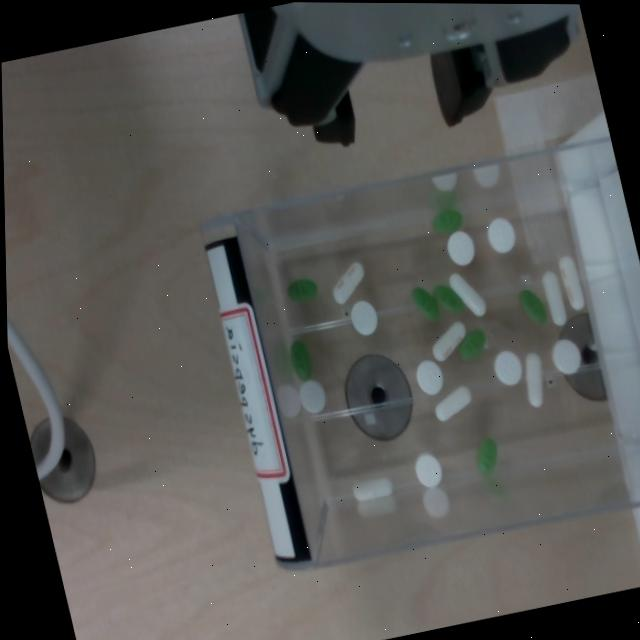magmil_tab: (550, 339, 579, 374), (485, 217, 514, 252), (492, 350, 520, 385), (445, 230, 473, 265), (348, 300, 376, 334), (413, 452, 440, 487), (414, 359, 441, 394), (298, 379, 324, 413)
medilacsenteric_tab: (447, 273, 484, 315), (331, 261, 362, 304), (430, 321, 464, 360), (557, 256, 582, 309), (540, 271, 564, 325), (434, 386, 469, 421), (351, 476, 390, 501), (523, 352, 541, 406)
nexilen_tab: (518, 289, 546, 322), (410, 287, 438, 319), (288, 340, 310, 380), (432, 284, 463, 312), (457, 328, 484, 359), (432, 207, 461, 234), (475, 438, 495, 475), (286, 278, 315, 301)
